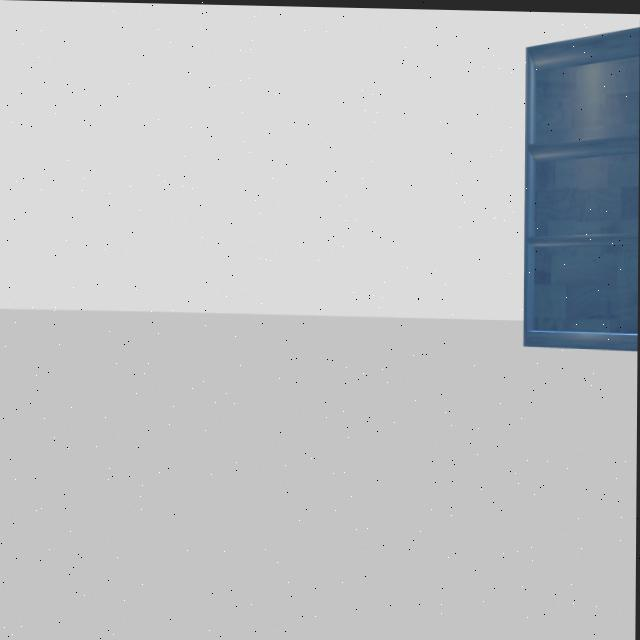shelf: (509, 9, 640, 364)
